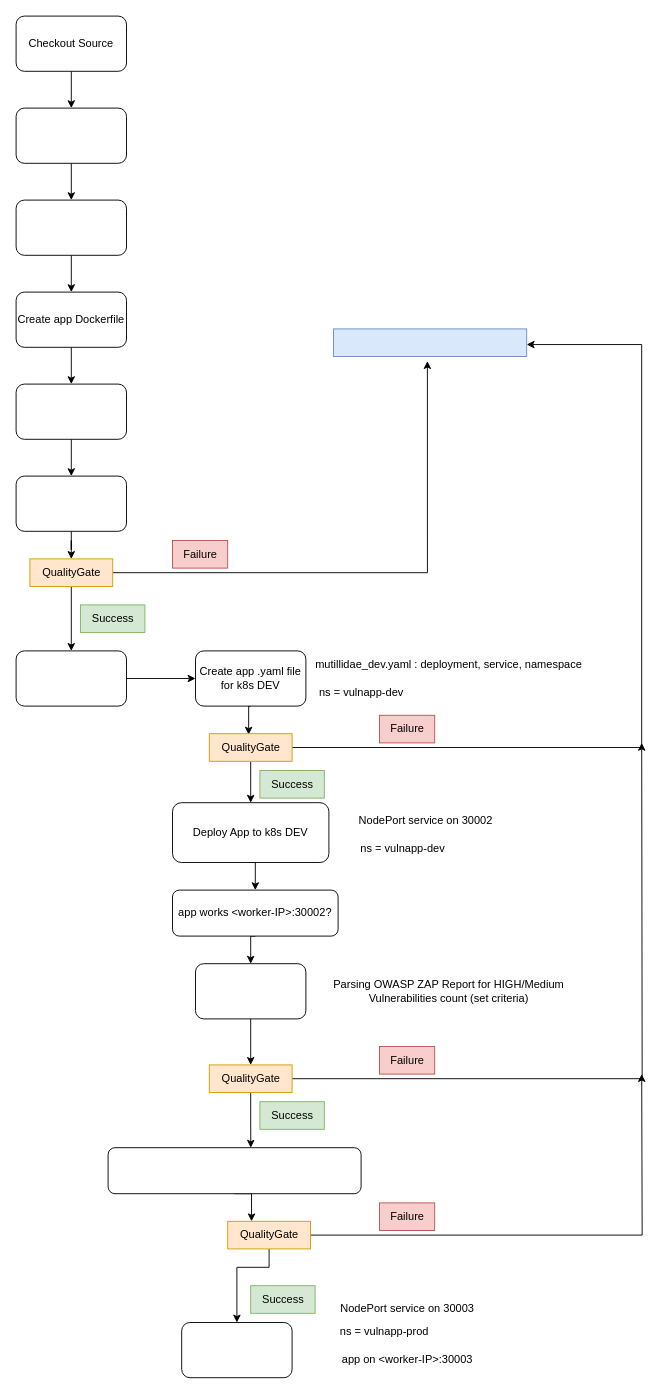
Some shapes in this 666 by 1394 pixel diagram are drawn without their labels. Each missing label, with the centre of its shape:
Break pipeline (Exception occurred): (x=430, y=342)
Build docker image: (x=70, y=411)
Deploy App to k8s PROD: (x=236, y=1350)
OWASP Dependency Check analysis: (x=70, y=227)
OWASP ZAP Report met the criteria (count of HIGH/Medium Vulnerabilities): (x=234, y=1170)
OWASP ZAP Scan: (x=250, y=991)
Push image to DockerHub: (x=70, y=678)
SonarQube analysis PHP source code: (x=70, y=135)
trivy scan: (x=70, y=503)
